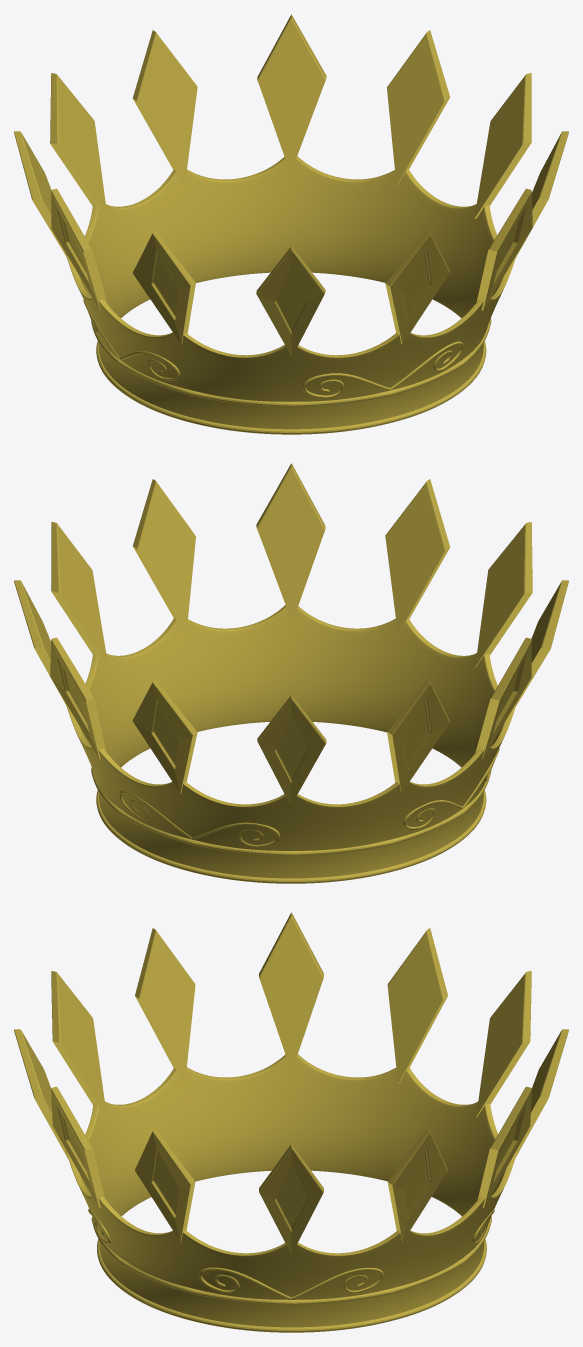
Rendered from Crown.fbx.
3 renders of one model, top to bottom at view 1: azimuth 30°, elevation 25°; view 2: azimuth 150°, elevation 25°; view 3: azimuth 270°, elevation 25°, orthographic.
Visible parts, largest first — view 1: Crown; view 2: Crown; view 3: Crown.
Part boxes in pixels (x1=…): Crown: x1=14, y1=14, x2=568, y2=434; Crown: x1=14, y1=463, x2=568, y2=883; Crown: x1=14, y1=912, x2=568, y2=1332.
Bounding box in the file's own units: 671 × 296 × 671.
